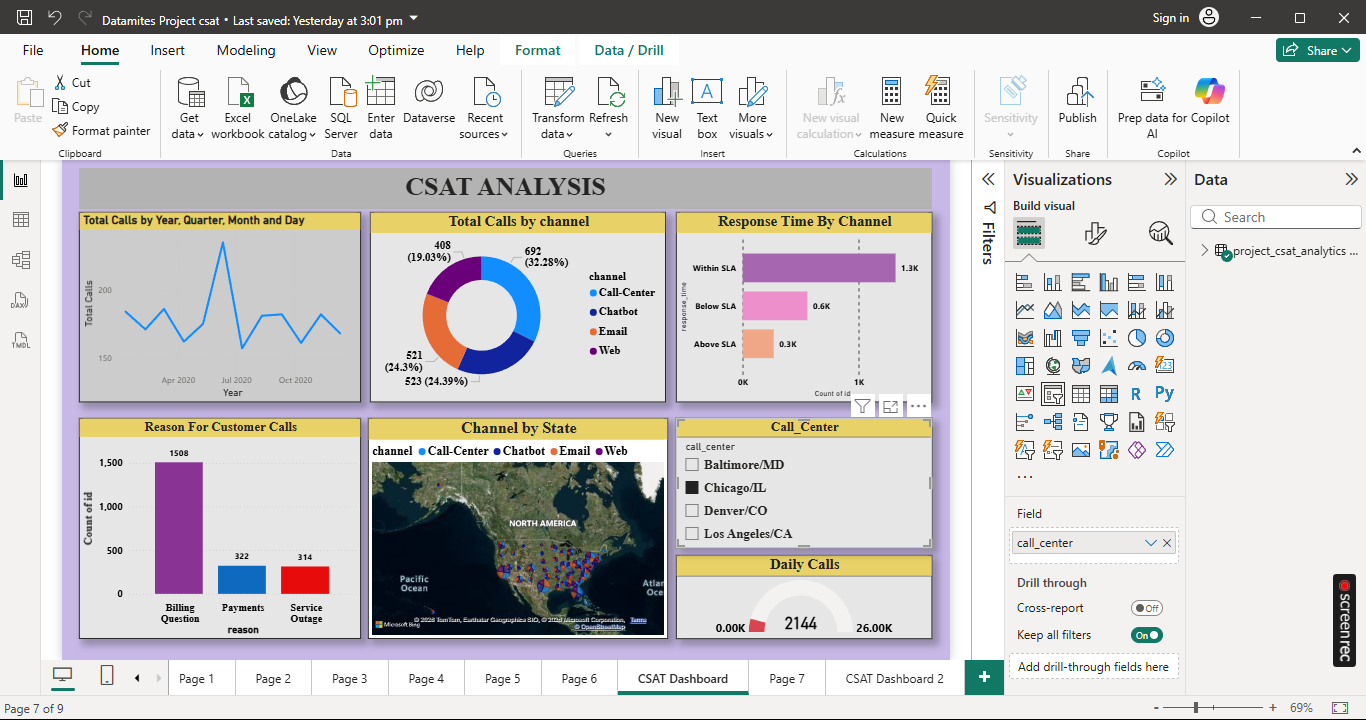

What the dashboard file says about the page in this screenshot:
{"tool":"powerbi","page":{"name":"CSAT Dashboard ","canvas":[1280,720],"ordinal":0},"visuals":[{"type":"textbox","box":[24.5,11.5,1228.3,59],"z":0},{"type":"lineChart","title":"Total Calls by Year, Quarter, Month and Day","fields":{"Y":["project_csat_analytics CSAT.Total Calls"],"Category":["project_csat_analytics CSAT.call_timestamp.Variation.Date Hierarchy.Year","project_csat_analytics CSAT.call_timestamp.Variation.Date Hierarchy.Quarter","project_csat_analytics CSAT.call_timestamp.Variation.Date Hierarchy.Month","project_csat_analytics CSAT.call_timestamp.Variation.Date Hierarchy.Day"]},"box":[24.5,74.9,406.1,273.6],"z":1000},{"type":"donutChart","title":"Total Calls by channel","fields":{"Category":["project_csat_analytics CSAT.channel"],"Y":["CountNonNull(project_csat_analytics CSAT.id)"]},"box":[443.5,74.9,426.2,273.6],"z":2000},{"type":"barChart","title":"Response Time By Channel","fields":{"Category":["project_csat_analytics CSAT.response_time"],"Y":["CountNonNull(project_csat_analytics CSAT.id)"]},"box":[884.2,74.9,368.6,273.6],"z":3000},{"type":"clusteredColumnChart","title":"Reason For Customer Calls","fields":{"Category":["project_csat_analytics CSAT.reason"],"Y":["CountNonNull(project_csat_analytics CSAT.id)"]},"box":[24.5,371.5,406.1,318.2],"z":4000},{"type":"map","title":"Channel by State ","fields":{"Category":["project_csat_analytics CSAT.state"],"Series":["project_csat_analytics CSAT.channel"],"Size":["CountNonNull(project_csat_analytics CSAT.id)"]},"box":[440.6,371.5,432,318.2],"z":5000},{"type":"slicer","title":"Call_Center","fields":{"Values":["project_csat_analytics CSAT.call_center"]},"box":[884.2,371.5,368.6,187.2],"z":6000},{"type":"gauge","title":"Daily Calls ","fields":{"Y":["CountNonNull(project_csat_analytics CSAT.id)"]},"box":[884.2,568.8,368.6,121],"z":7000}]}

Visuals, with their boxes on the page's 1280x720 design canvas (x1, y1, x2, y2). These are canvas units, not pixel positions in the 1366x720 screenshot, which may show the page scaled, cropped or inside an application window:
textbox: (24,12,1253,70)
"Total Calls by Year, Quarter, Month and Day" lineChart: (24,75,431,348)
"Total Calls by channel" donutChart: (444,75,870,348)
"Response Time By Channel" barChart: (884,75,1253,348)
"Reason For Customer Calls" clusteredColumnChart: (24,372,431,690)
"Channel by State " map: (441,372,873,690)
"Call_Center" slicer: (884,372,1253,559)
"Daily Calls " gauge: (884,569,1253,690)
